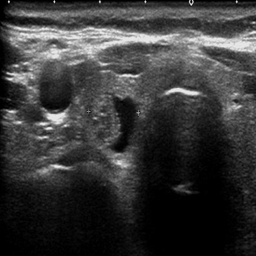mass: (91, 90, 143, 158)
